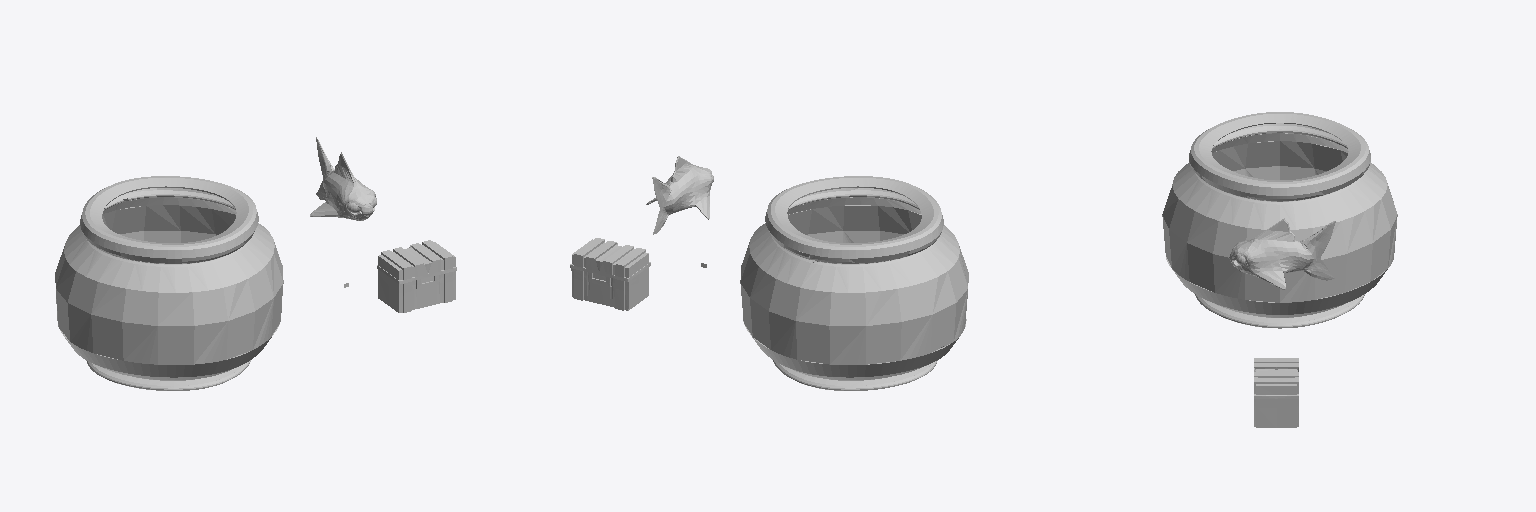
Rendered from LabSetForSub.obj.
3 renders of one model, left to right at view 1: azimuth 30°, elevation 25°; view 2: azimuth 150°, elevation 25°; view 3: azimuth 270°, elevation 25°, orthographic.
Parts seen in each view (by area): view 1: revolvedSurface1, polySurface1, pSphere2; view 2: revolvedSurface1, polySurface1, pSphere2; view 3: revolvedSurface1, pSphere2, polySurface1.
Boxes of the visible parts, <box> form: revolvedSurface1: <box>55,176,283,390</box>; polySurface1: <box>377,240,456,312</box>; pSphere2: <box>310,137,376,220</box>; revolvedSurface1: <box>740,176,968,390</box>; polySurface1: <box>570,238,650,310</box>; pSphere2: <box>646,156,713,234</box>; revolvedSurface1: <box>1162,112,1397,328</box>; pSphere2: <box>1229,218,1335,289</box>; polySurface1: <box>1254,358,1298,427</box>.
Bounding box in the file's own units: 31.75 × 13 × 17.17.